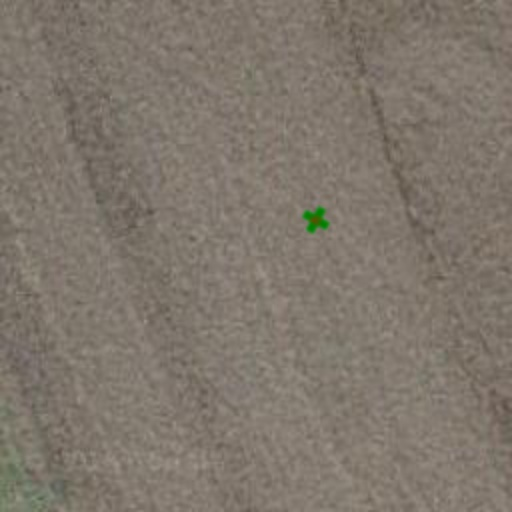cross: (296, 200, 336, 240)
